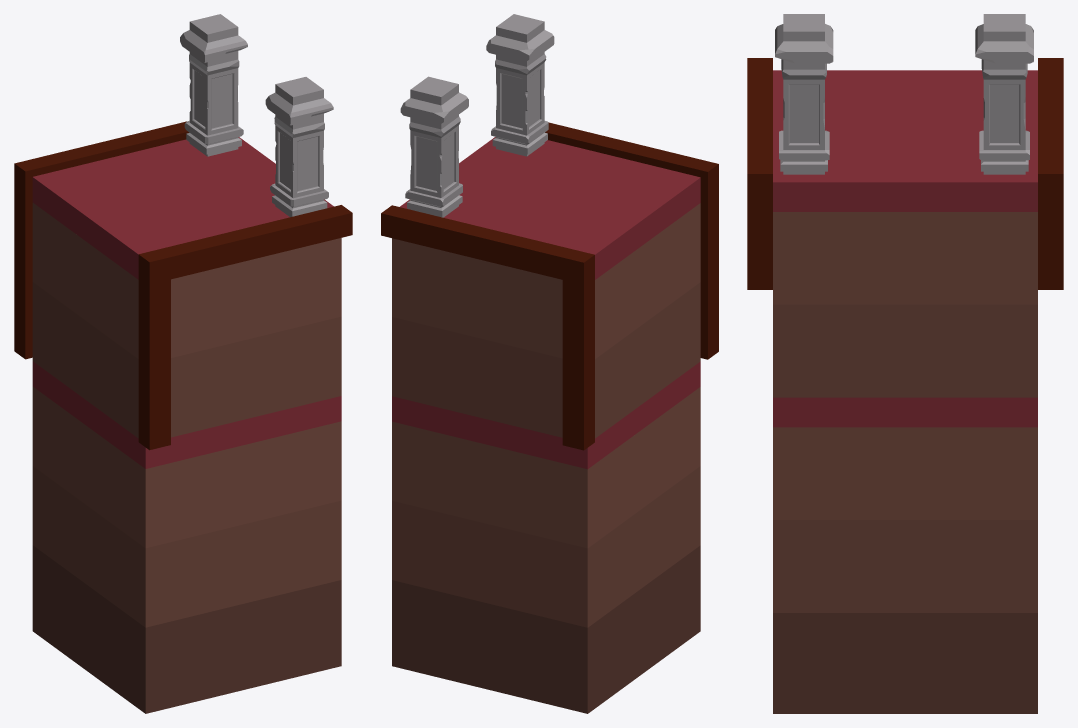
File: Plano16.fbx
The picture shows the model from 3 angles, left to right: view 1: azimuth 30°, elevation 25°; view 2: azimuth 150°, elevation 25°; view 3: azimuth 270°, elevation 25°; orthographic projection. The views are drawn at different scales.
Visible parts, largest first — view 1: Plane.083, Plane.082, Plane.085, Cube.1726, Cube.1729, Plane.084, Plane.080, Plane.081; view 2: Plane.083, Plane.082, Plane.085, Cube.1726, Cube.1729, Plane.084, Plane.081, Plane.080; view 3: Plane.083, Plane.082, Plane.085, Plane.084, Plane.080, Plane.081, Cube.1726, Cube.1729.
Boxes of the visible parts, x1,y1,x2,y2 form: Plane.083: [32, 387, 341, 713]; Plane.082: [32, 203, 341, 438]; Plane.085: [32, 137, 333, 279]; Cube.1726: [14, 121, 352, 284]; Cube.1729: [14, 186, 170, 450]; Plane.084: [32, 361, 341, 468]; Plane.080: [180, 14, 247, 156]; Plane.081: [265, 77, 333, 217]; Plane.083: [392, 387, 700, 713]; Plane.082: [392, 203, 700, 438]; Plane.085: [400, 137, 700, 279]; Cube.1726: [381, 122, 718, 284]; Cube.1729: [562, 186, 718, 450]; Plane.084: [392, 361, 700, 469]; Plane.081: [486, 14, 554, 156]; Plane.080: [400, 76, 468, 217]; Plane.083: [773, 427, 1037, 713]; Plane.082: [773, 212, 1037, 397]; Plane.085: [773, 70, 1037, 211]; Plane.084: [773, 397, 1037, 427]; Plane.080: [975, 14, 1033, 174]; Plane.081: [775, 14, 833, 174]; Cube.1726: [747, 58, 1063, 199]; Cube.1729: [747, 200, 1063, 289].
Bounding box in the file's own units: 829 × 2249 × 955.
